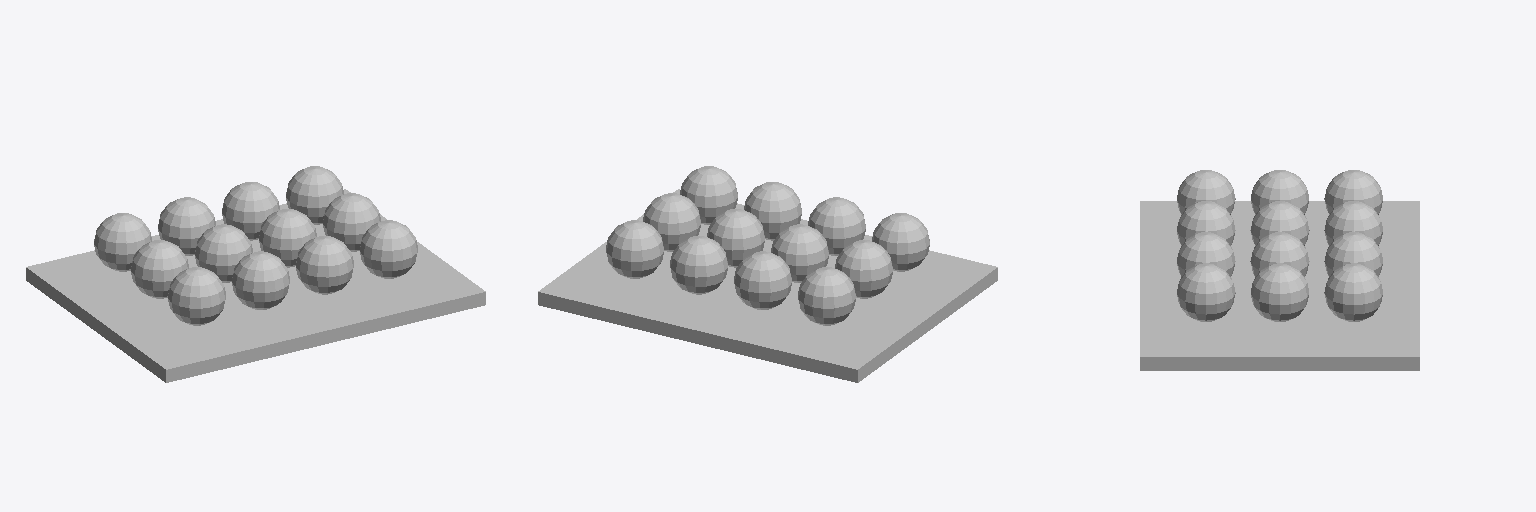
The model's file is sphere-compare.obj.
3 renders of one model, left to right at view 1: azimuth 30°, elevation 25°; view 2: azimuth 150°, elevation 25°; view 3: azimuth 270°, elevation 25°, orthographic.
Parts seen in each view (by area): view 1: Ground, Sphere22, Sphere20, Sphere23, Sphere21, Sphere00, Sphere10, Sphere03, Sphere13, Sphere11, Sphere01, Sphere02 (+1 smaller); view 2: Ground, Sphere02, Sphere00, Sphere03, Sphere01, Sphere20, Sphere10, Sphere23, Sphere13, Sphere11, Sphere21, Sphere22 (+1 smaller); view 3: Ground, Sphere23, Sphere03, Sphere13, Sphere12, Sphere22, Sphere21, Sphere20, Sphere00, Sphere01, Sphere02, Sphere10 (+1 smaller).
Boxes of the visible parts, x1=… form: Ground: x1=26, y1=189, x2=485, y2=382; Sphere22: x1=296, y1=236, x2=353, y2=294; Sphere20: x1=168, y1=267, x2=225, y2=325; Sphere23: x1=360, y1=220, x2=417, y2=278; Sphere21: x1=232, y1=251, x2=289, y2=309; Sphere00: x1=94, y1=213, x2=151, y2=271; Sphere10: x1=131, y1=240, x2=188, y2=298; Sphere03: x1=286, y1=166, x2=343, y2=224; Sphere13: x1=323, y1=193, x2=380, y2=251; Sphere11: x1=195, y1=224, x2=252, y2=282; Sphere01: x1=158, y1=197, x2=215, y2=255; Sphere02: x1=222, y1=182, x2=279, y2=240; Ground: x1=538, y1=189, x2=997, y2=382; Sphere02: x1=670, y1=236, x2=727, y2=294; Sphere00: x1=798, y1=267, x2=855, y2=325; Sphere03: x1=606, y1=220, x2=663, y2=278; Sphere01: x1=734, y1=251, x2=791, y2=309; Sphere20: x1=872, y1=213, x2=929, y2=271; Sphere10: x1=835, y1=240, x2=892, y2=298; Sphere23: x1=680, y1=166, x2=737, y2=224; Sphere13: x1=643, y1=193, x2=700, y2=251; Sphere11: x1=771, y1=224, x2=828, y2=282; Sphere21: x1=808, y1=197, x2=865, y2=255; Sphere22: x1=744, y1=182, x2=801, y2=240; Ground: x1=1140, y1=201, x2=1419, y2=370; Sphere23: x1=1177, y1=263, x2=1235, y2=321; Sphere03: x1=1324, y1=263, x2=1382, y2=321; Sphere13: x1=1251, y1=263, x2=1308, y2=321; Sphere12: x1=1250, y1=232, x2=1309, y2=276; Sphere22: x1=1177, y1=232, x2=1235, y2=276; Sphere21: x1=1177, y1=201, x2=1235, y2=245; Sphere20: x1=1177, y1=170, x2=1235, y2=214; Sphere00: x1=1324, y1=170, x2=1382, y2=214; Sphere01: x1=1324, y1=201, x2=1382, y2=245; Sphere02: x1=1324, y1=232, x2=1382, y2=276; Sphere10: x1=1251, y1=170, x2=1308, y2=214.
Size of the model in its own units: 5 by 1.1 by 3.8.